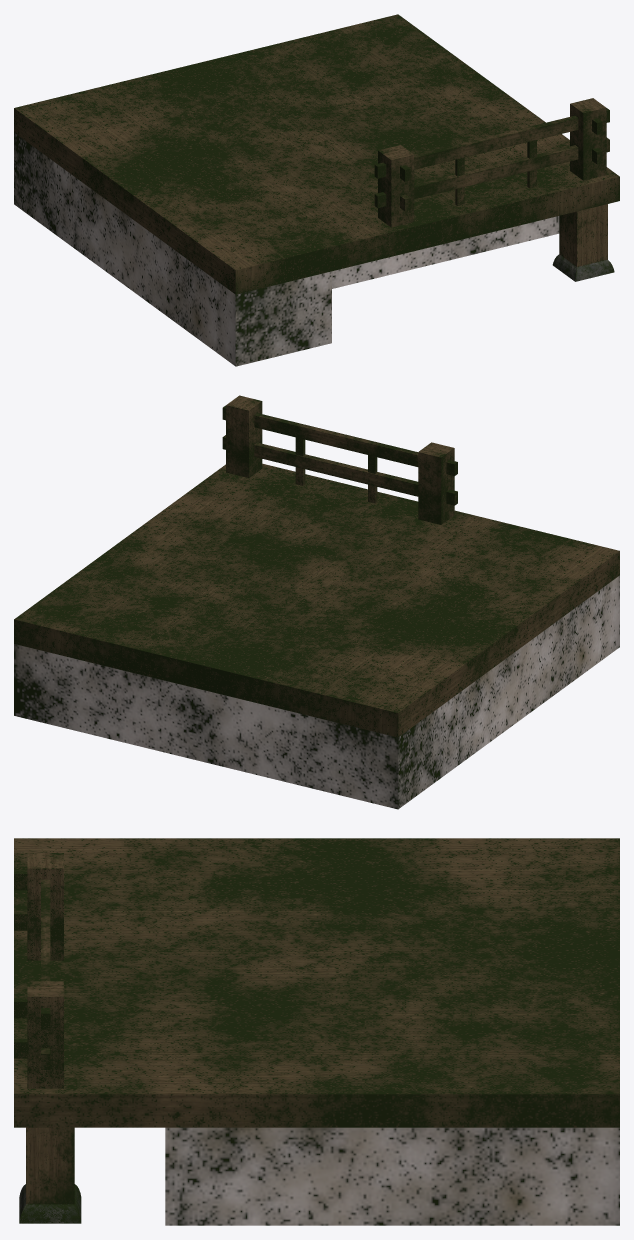
The model's file is shrine_floor_outside_corner_04.fbx.
3 views of the same model, one above another, from view 1: azimuth 30°, elevation 25°; view 2: azimuth 150°, elevation 25°; view 3: azimuth 270°, elevation 25° (orthographic). The views are drawn at different scales.
Visible parts, largest first — view 1: shrine_floor_outside_corner_04; view 2: shrine_floor_outside_corner_04; view 3: shrine_floor_outside_corner_04.
Boxes of the visible parts, x1,y1,x2,y2 form: shrine_floor_outside_corner_04: (14, 14, 619, 366); shrine_floor_outside_corner_04: (14, 395, 619, 809); shrine_floor_outside_corner_04: (14, 838, 619, 1225).
Bounding box in the file's own units: 330 × 134 × 330.
3 materials, 3 textured.
